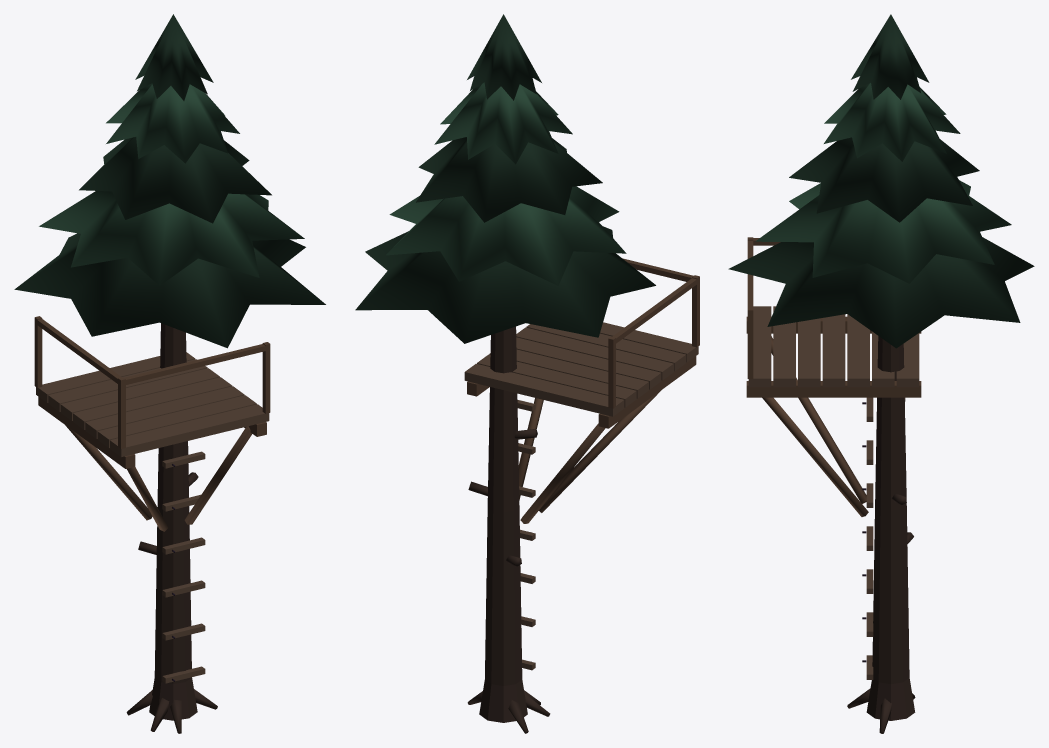
File: hunters_tree_stand.glb
The picture shows the model from 3 angles, left to right: view 1: azimuth 30°, elevation 25°; view 2: azimuth 150°, elevation 25°; view 3: azimuth 270°, elevation 25°; orthographic projection.
Visible parts, largest first — view 1: hunters_tree_stand; view 2: hunters_tree_stand; view 3: hunters_tree_stand.
Part boxes in pixels (box(x1,y1,x2,y2)): hunters_tree_stand: box(14, 14, 325, 733); hunters_tree_stand: box(355, 14, 699, 733); hunters_tree_stand: box(728, 14, 1034, 733).
Size of the model in its own units: 1.6 by 4.08 by 1.62.
